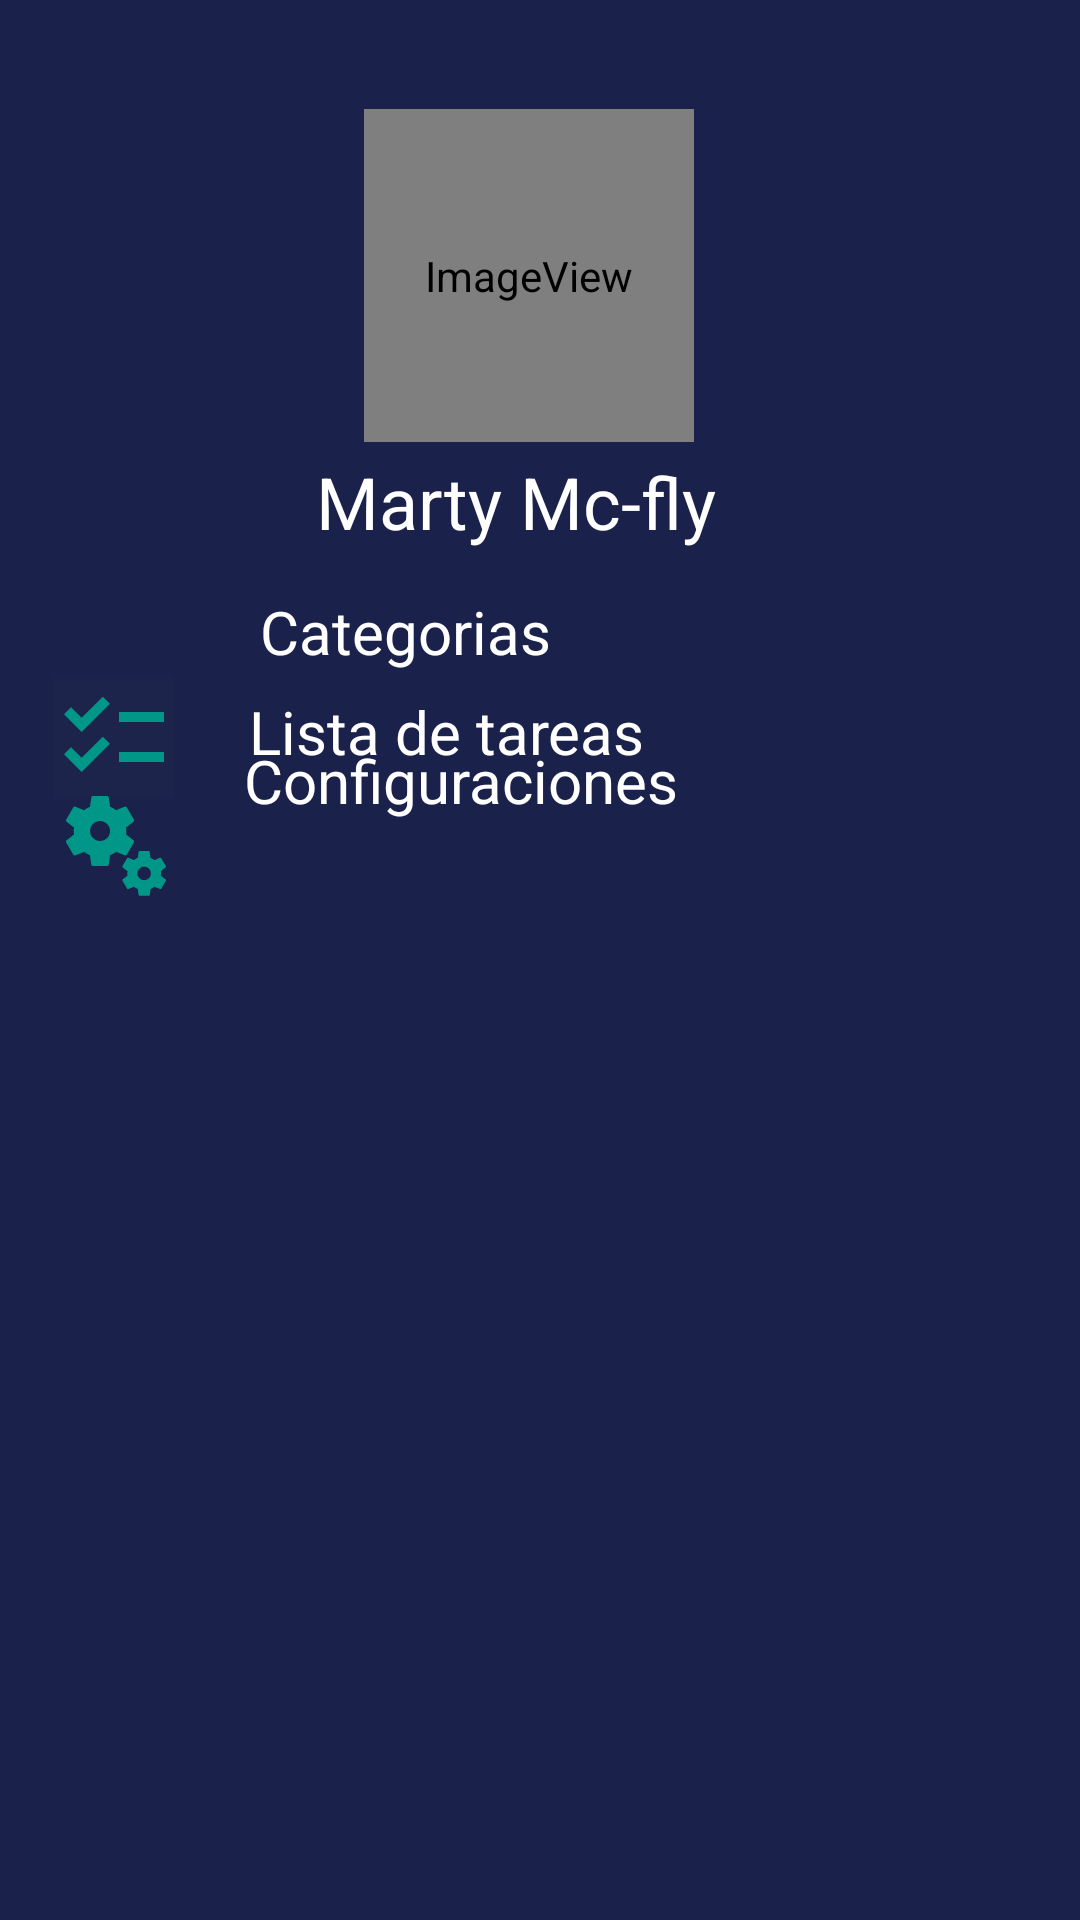

Icons on this 1080 × 1920 Android screen, each with its box as (x1, y1, x2, y2):
checklist: (64, 697, 164, 772)
configverde: (66, 796, 166, 896)
